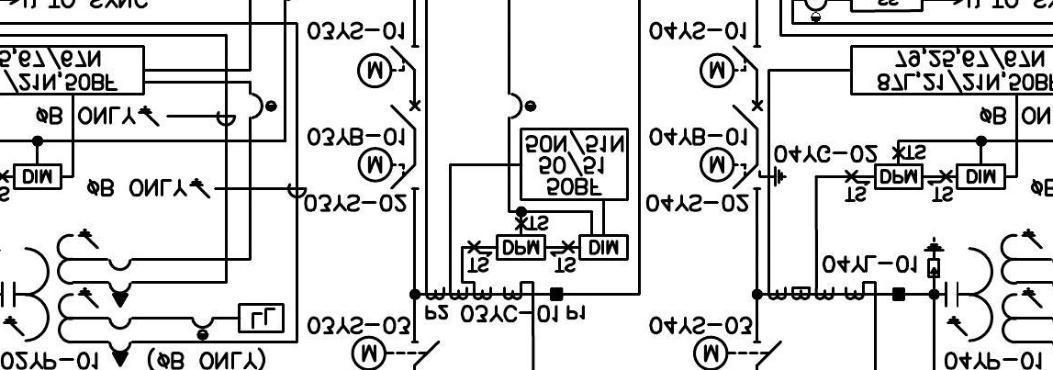115_1way_ds_w_motor: (356, 146, 420, 191), (356, 45, 420, 89), (698, 45, 762, 89)
115_3ways_ds_w_motor: (699, 146, 788, 191)
115_breaker: (389, 100, 421, 130), (732, 100, 763, 130)
115_cvt_1p: (0, 227, 134, 368)
115_la: (923, 236, 945, 278)
DIM: (578, 234, 629, 261), (13, 163, 63, 190), (956, 163, 1006, 190)
DPM: (495, 234, 547, 261), (874, 163, 924, 190)
LL: (237, 303, 285, 334)
